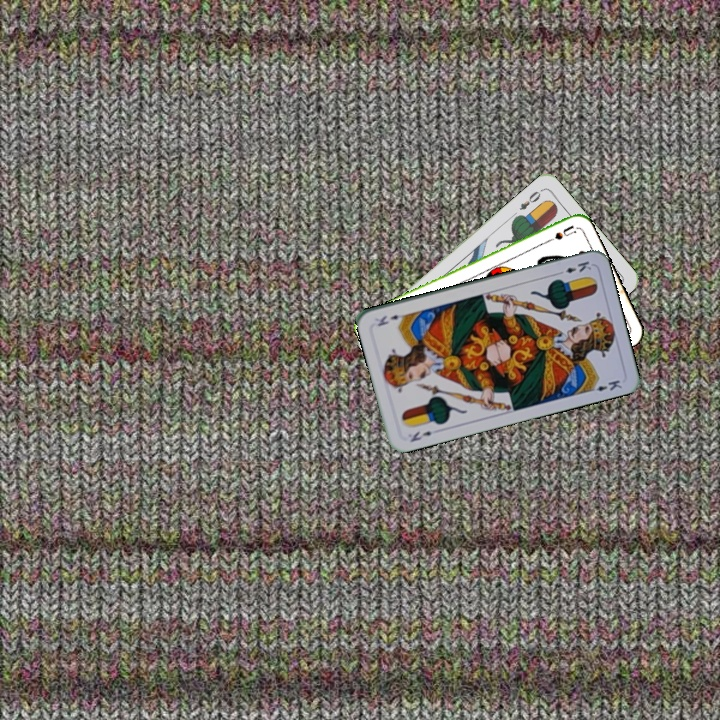EK: (553, 257, 594, 278), (406, 427, 442, 445)
EO: (515, 185, 545, 213)
SU: (538, 221, 577, 247)
